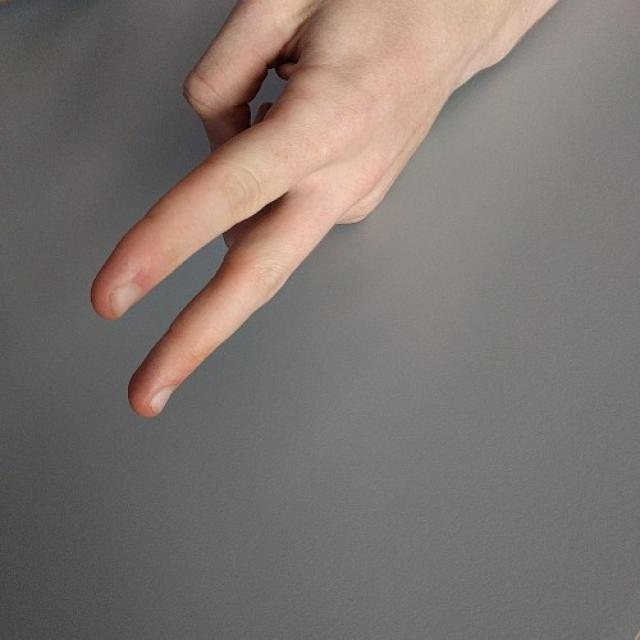scissors: (84, 0, 544, 423)
